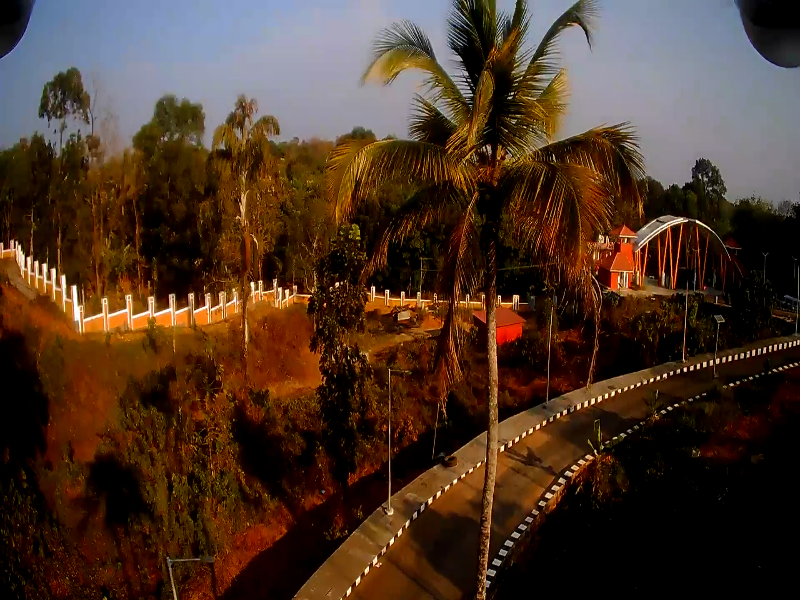coconut: (490, 181, 496, 192)
